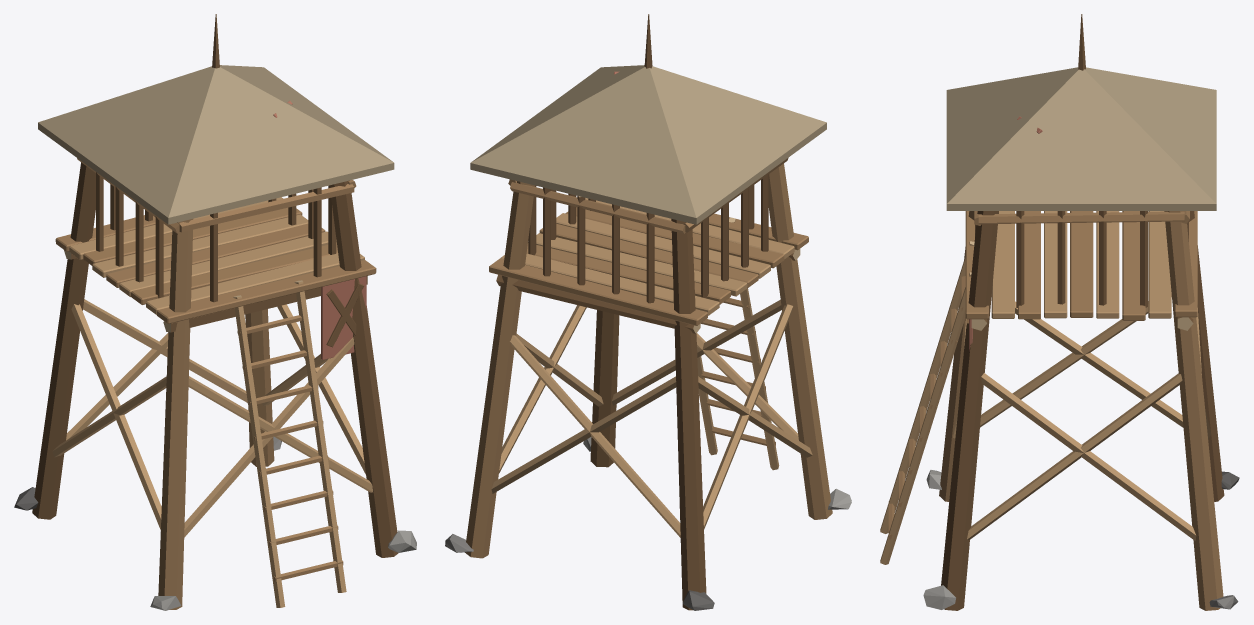
Rendered from watchtower.glb.
3 renders of one model, left to right at view 1: azimuth 30°, elevation 25°; view 2: azimuth 150°, elevation 25°; view 3: azimuth 270°, elevation 25°, orthographic. The views are drawn at different scales.
Visible parts, largest first — view 1: Watchtower; view 2: Watchtower; view 3: Watchtower.
Boxes of the visible parts, x1,y1,x2,y2 form: Watchtower: (14,14,416,610); Watchtower: (445,14,851,610); Watchtower: (880,14,1239,610).
Size of the model in its own units: 3.31 by 6.17 by 3.73.
